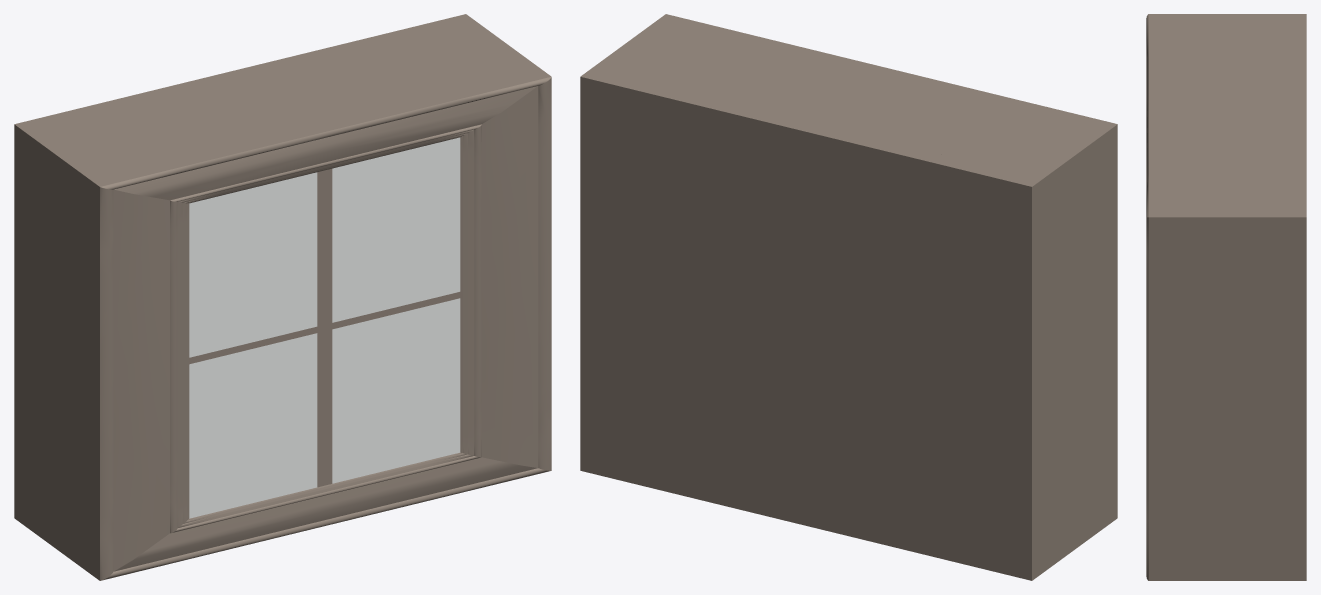
The model's file is Wall-Cabinet-with-Doors-Prepped-for-Glass_std_001_W36in.glb.
3 views of the same model, side by side, from view 1: azimuth 30°, elevation 25°; view 2: azimuth 150°, elevation 25°; view 3: azimuth 270°, elevation 25° (orthographic). The views are drawn at different scales.
Visible parts, largest first — view 1: Wall-Cabinet-with-Doors-Prepped-for-Glass.std.001_W36in; view 2: Wall-Cabinet-with-Doors-Prepped-for-Glass.std.001_W36in; view 3: Wall-Cabinet-with-Doors-Prepped-for-Glass.std.001_W36in.
Boxes of the visible parts, <box> form: Wall-Cabinet-with-Doors-Prepped-for-Glass.std.001_W36in: <box>14,14,551,580</box>; Wall-Cabinet-with-Doors-Prepped-for-Glass.std.001_W36in: <box>580,14,1117,580</box>; Wall-Cabinet-with-Doors-Prepped-for-Glass.std.001_W36in: <box>1146,14,1306,580</box>.
Size of the model in its own units: 0.9144 by 0.762 by 0.3048.
